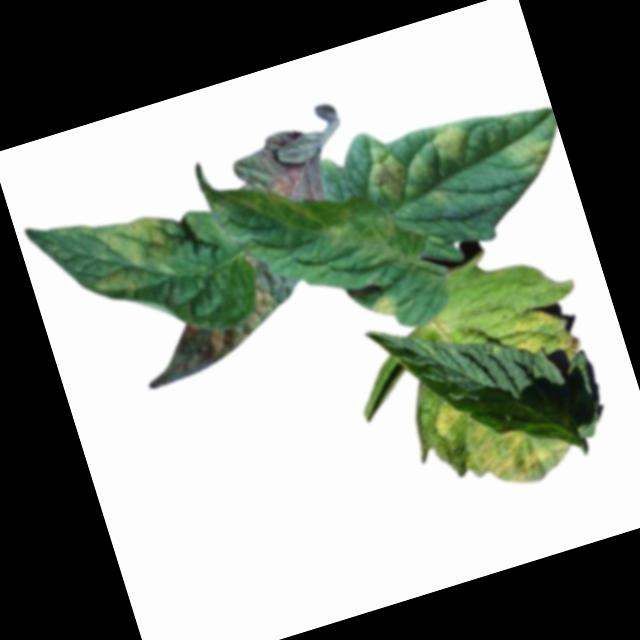Leaf_Mold: (119, 251, 316, 392), (429, 369, 578, 507), (73, 200, 188, 306), (225, 120, 336, 225), (507, 298, 587, 370), (361, 137, 424, 212), (424, 113, 479, 170), (509, 129, 562, 178), (370, 287, 403, 324)
